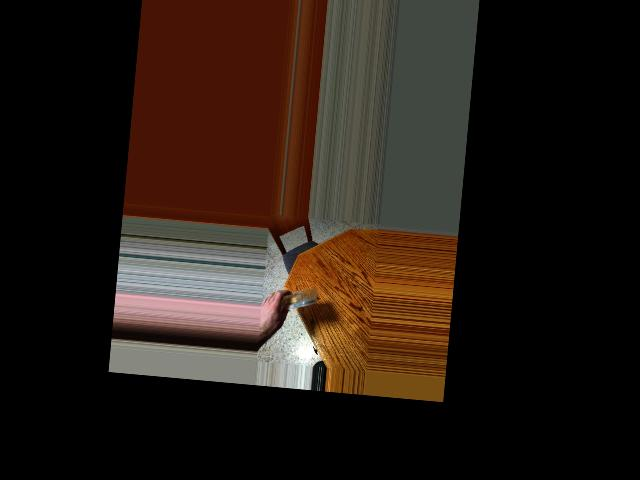cheese: (280, 282, 314, 313)
